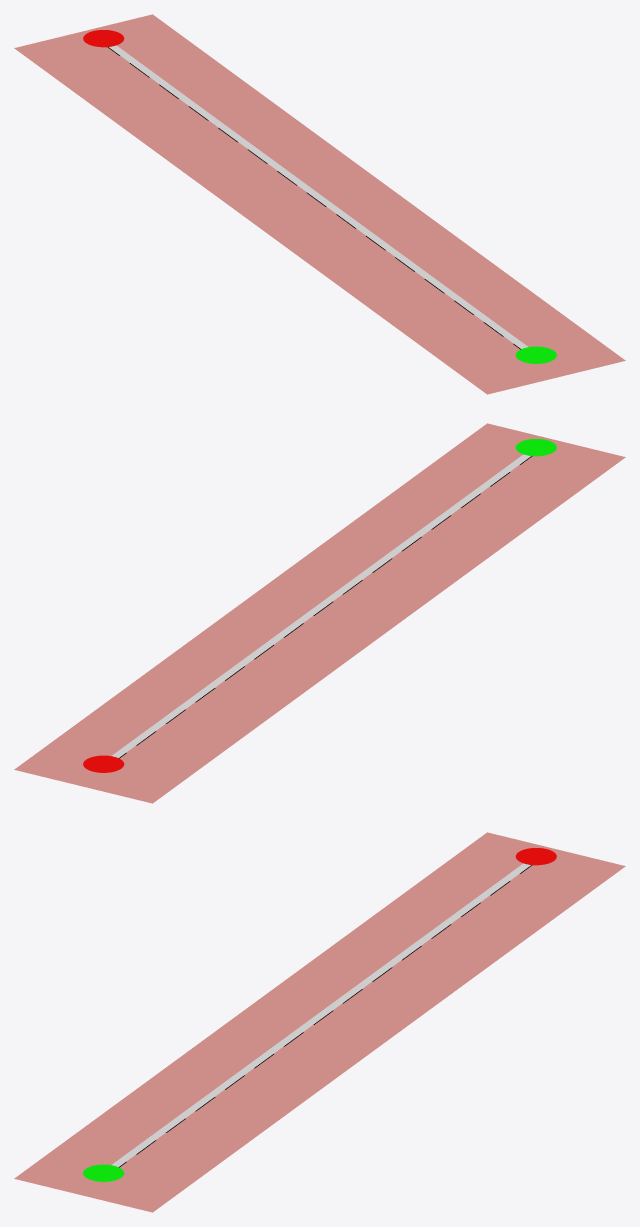
Rendered from Tracing.glb.
3 views of the same model, one above another, from view 1: azimuth 30°, elevation 25°; view 2: azimuth 150°, elevation 25°; view 3: azimuth 330°, elevation 25° (orthographic).
Parts seen in each view (by area): view 1: 1_1_Path1, 1_1_Path2, 1_1_Path3, 1_1_Paint, 1_1_End, 1_1_Start; view 2: 1_1_Path1, 1_1_Path2, 1_1_Path3, 1_1_Paint, 1_1_Start, 1_1_End; view 3: 1_1_Path1, 1_1_Path2, 1_1_Path3, 1_1_Paint, 1_1_End, 1_1_Start.
Boxes of the visible parts, x1,y1,x2,y2 form: 1_1_Path1: [14, 14, 625, 394]; 1_1_Path2: [31, 18, 608, 390]; 1_1_Path3: [46, 22, 590, 385]; 1_1_Paint: [109, 45, 528, 348]; 1_1_End: [515, 346, 556, 363]; 1_1_Start: [83, 30, 124, 47]; 1_1_Path1: [14, 423, 625, 803]; 1_1_Path2: [31, 427, 609, 799]; 1_1_Path3: [51, 431, 593, 793]; 1_1_Paint: [111, 454, 530, 757]; 1_1_Start: [83, 755, 124, 772]; 1_1_End: [515, 439, 556, 456]; 1_1_Path1: [14, 832, 625, 1212]; 1_1_Path2: [30, 836, 609, 1208]; 1_1_Path3: [48, 840, 593, 1199]; 1_1_Paint: [111, 863, 530, 1166]; 1_1_End: [83, 1164, 124, 1181]; 1_1_Start: [515, 848, 556, 865].
Size of the model in its own units: 0.7404 by 0.0387 by 4.38.
